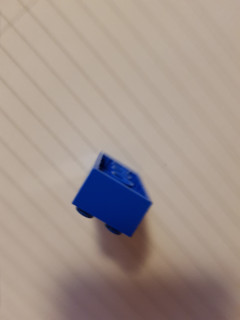2x4 blue: (70, 148, 154, 242)
